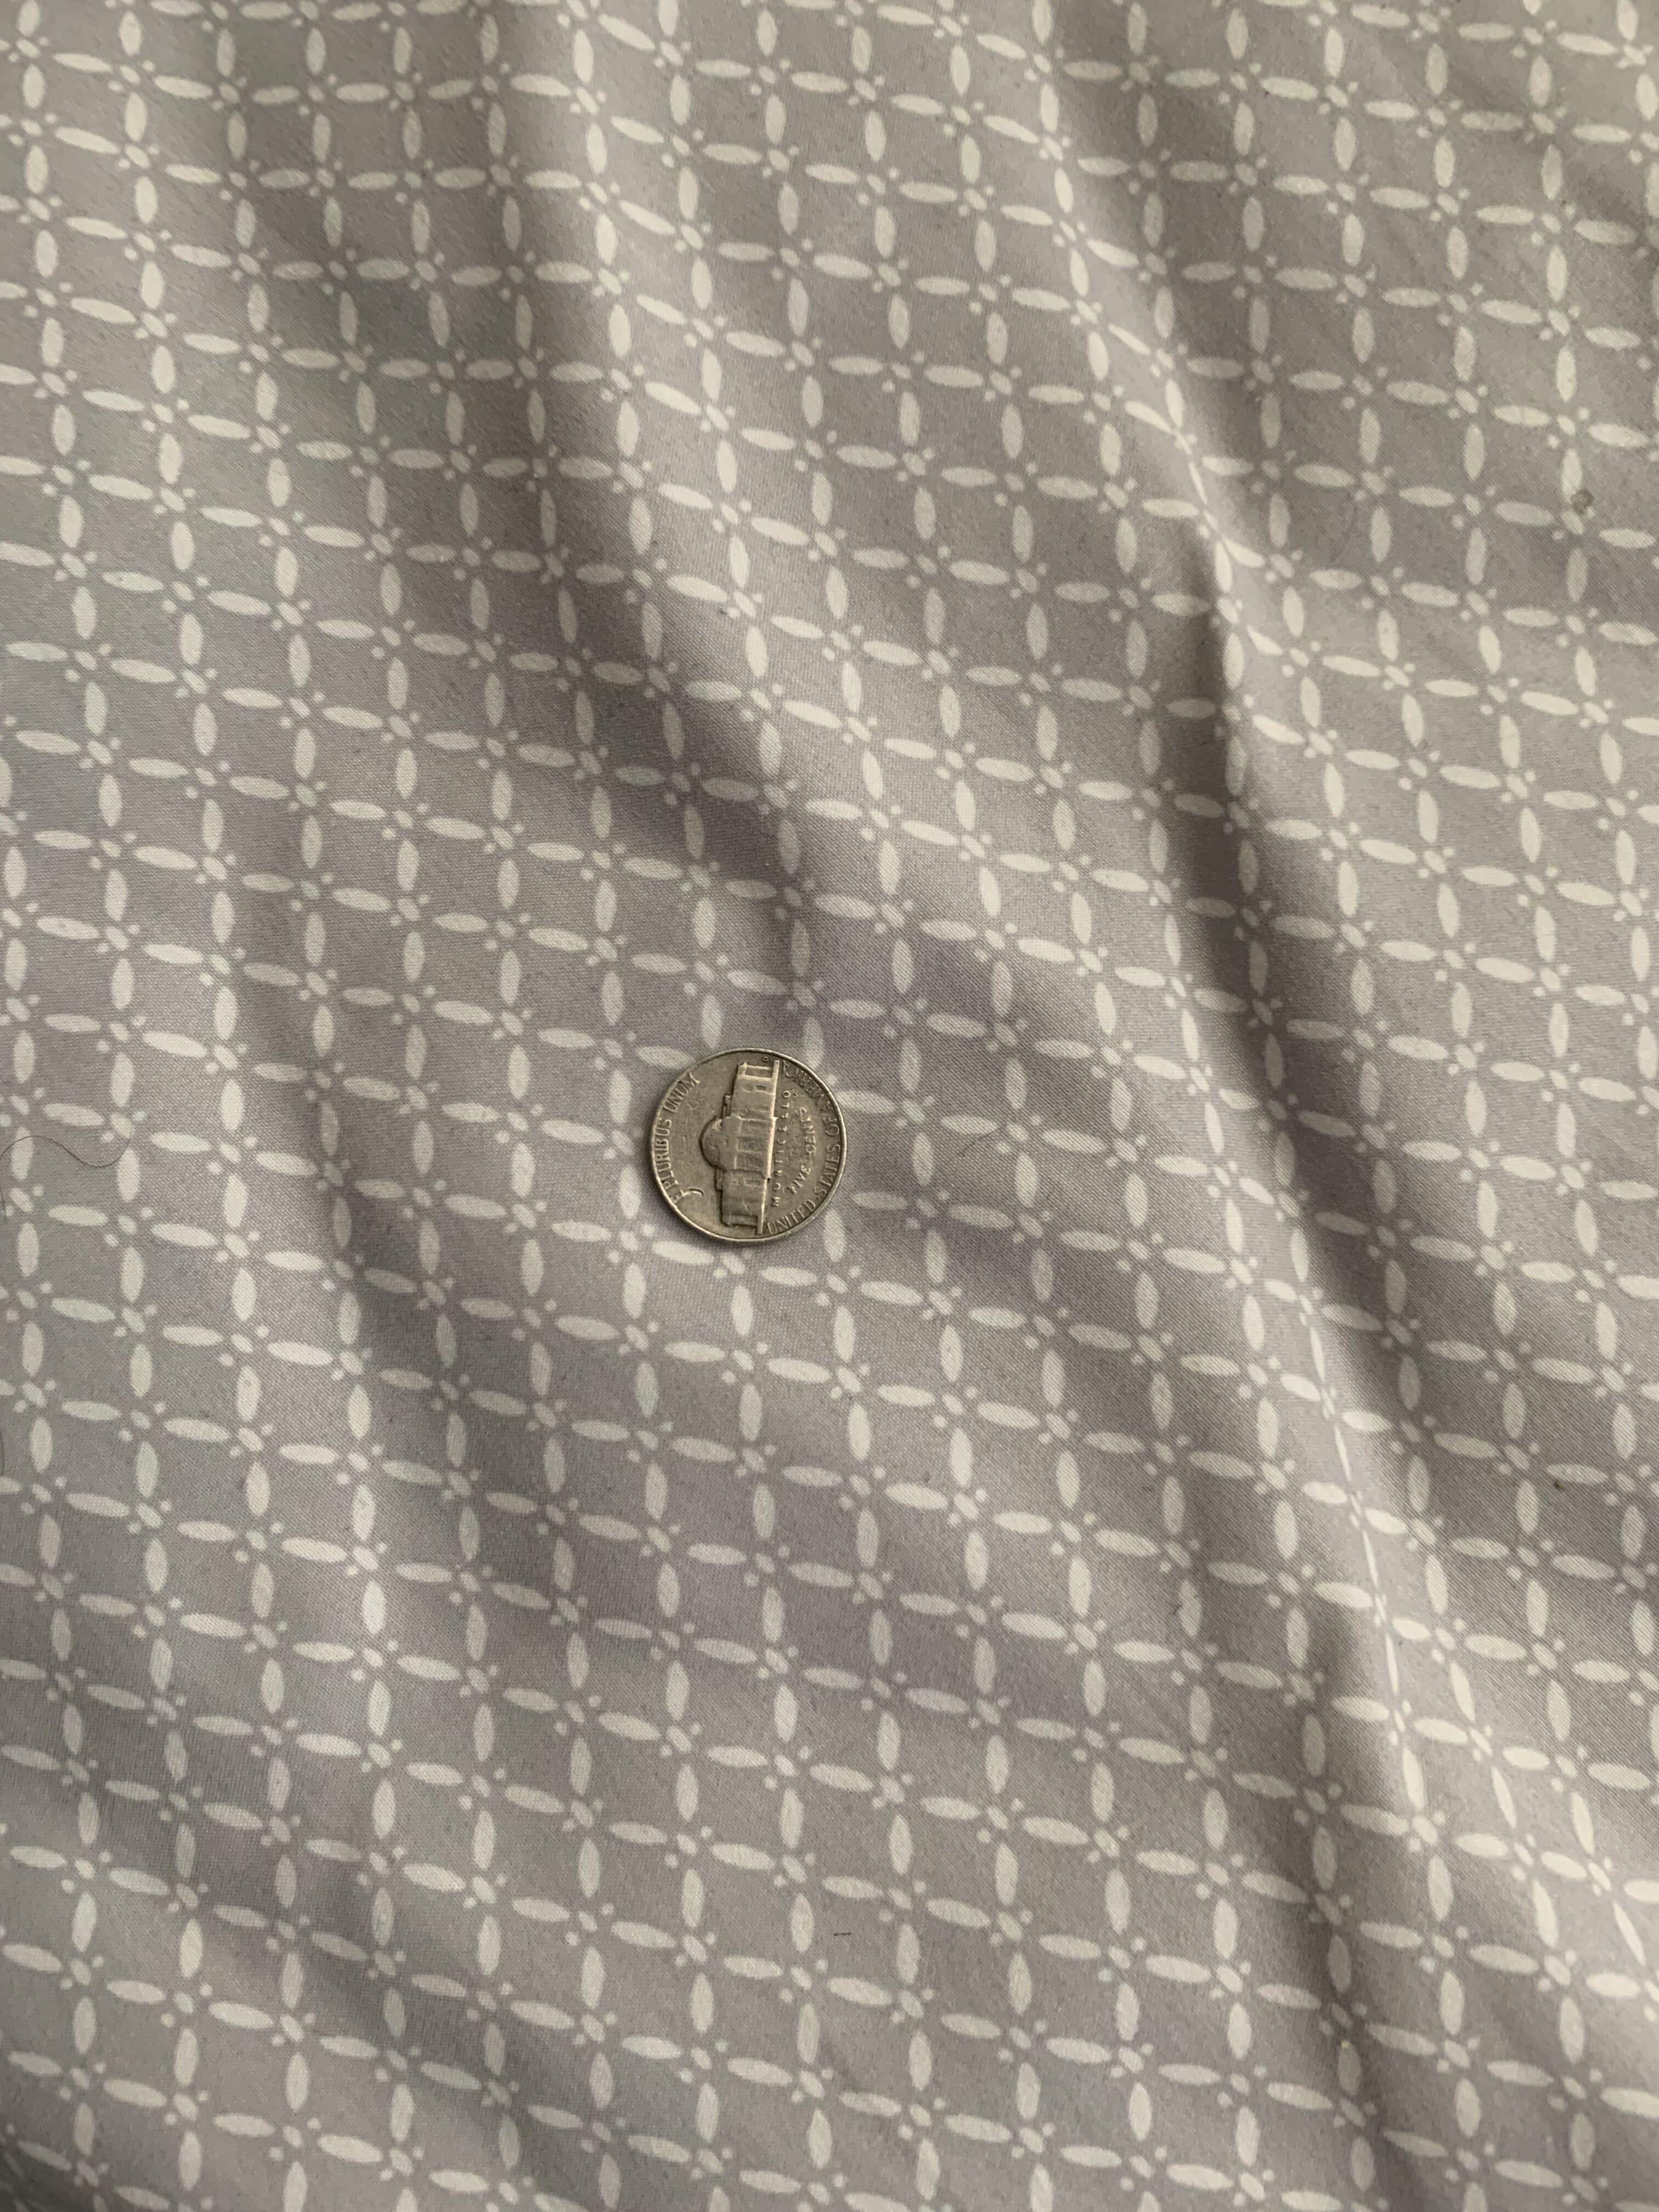Nickel: (598, 1028, 885, 1264)
